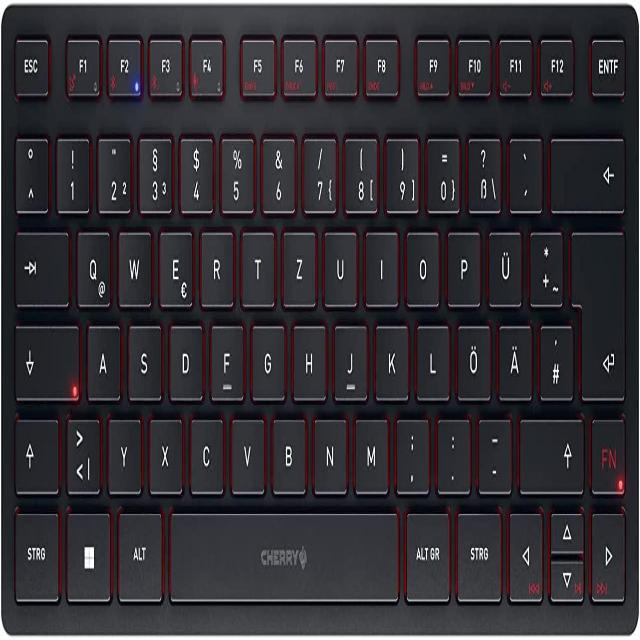0: (424, 132, 461, 215)
1: (54, 132, 90, 212)
2: (95, 132, 132, 215)
3: (136, 131, 173, 215)
4: (178, 131, 214, 212)
5: (217, 131, 255, 214)
6: (260, 131, 297, 214)
7: (301, 132, 338, 213)
8: (342, 132, 379, 216)
9: (383, 132, 420, 215)
a: (85, 319, 120, 399)
accent: (507, 132, 542, 212)
ae: (497, 318, 533, 399)
alt-left: (115, 505, 163, 603)
altgr-right: (402, 505, 451, 601)
b: (270, 411, 307, 492)
c: (188, 411, 224, 491)
caret: (12, 132, 49, 212)
comma: (393, 412, 430, 494)
d: (167, 319, 203, 399)
del: (549, 132, 626, 211)
e: (157, 225, 193, 308)
enter: (569, 219, 627, 404)
f: (208, 318, 243, 398)
g: (249, 319, 285, 398)
h: (291, 318, 326, 398)
hash: (537, 319, 573, 399)
i: (363, 225, 398, 304)
j: (332, 318, 367, 399)
k: (373, 318, 408, 398)
keyboard: (0, 4, 637, 635)
l: (414, 318, 449, 398)
less: (63, 412, 100, 494)
m: (352, 411, 389, 492)
minus: (475, 413, 512, 493)
n: (311, 411, 347, 492)
o: (403, 226, 440, 305)
oe: (454, 320, 491, 399)
p: (445, 226, 480, 305)
plus: (527, 225, 563, 306)
point: (434, 413, 471, 493)
q: (74, 225, 111, 308)
r: (198, 225, 233, 305)
s: (126, 319, 162, 399)
shift-left: (11, 414, 59, 493)
shift-lock: (12, 320, 79, 398)
shift-right: (519, 413, 584, 494)
space: (166, 505, 401, 605)
ss: (465, 131, 501, 214)
strg-left: (12, 505, 60, 601)
strg-right: (454, 505, 503, 601)
t: (240, 224, 275, 304)
tab: (12, 226, 68, 304)
u: (321, 225, 357, 305)
ue: (486, 225, 523, 306)
v: (228, 412, 265, 491)
w: (115, 224, 151, 305)
x: (147, 413, 183, 493)
y: (106, 413, 141, 493)
z: (280, 225, 316, 305)
